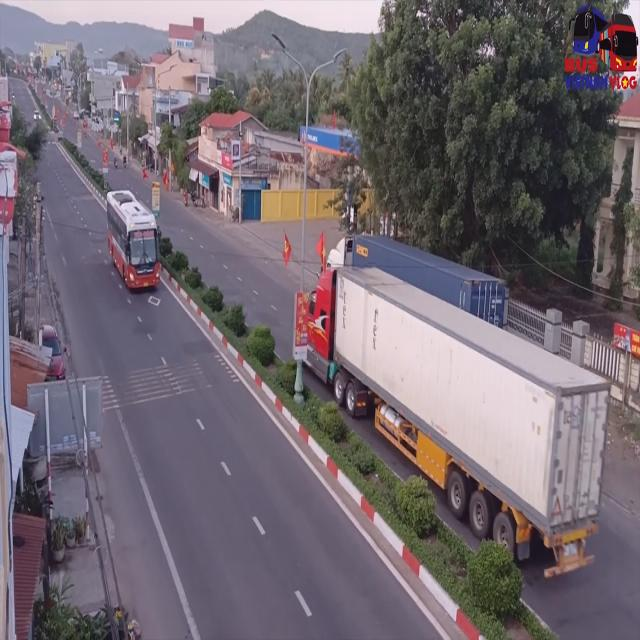bus: (106, 186, 162, 292)
truck: (299, 266, 605, 574)
